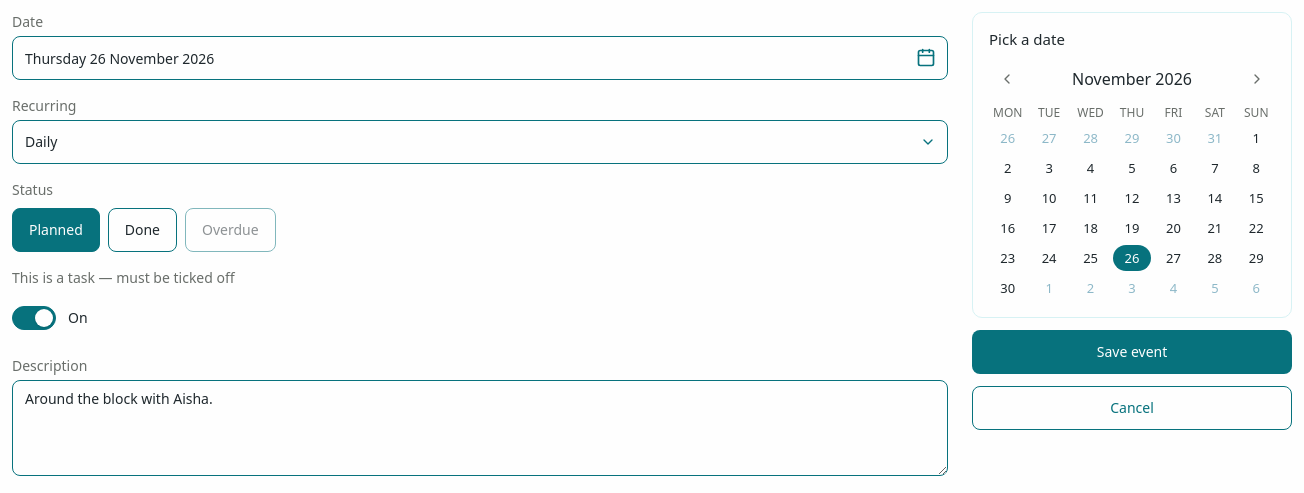
Test: [UI-05][AC-11] EventForm hides Status for a plain event › [UI-05][AC-11] the switch drives hideStatus, as the Add / Edit event screen will
Expected: the element named "Status" is shown, [12,208,276,252]
Step 1. Click the switch named "This is a task — must be ticked off" → [54, 318], box [12,296,96,340]
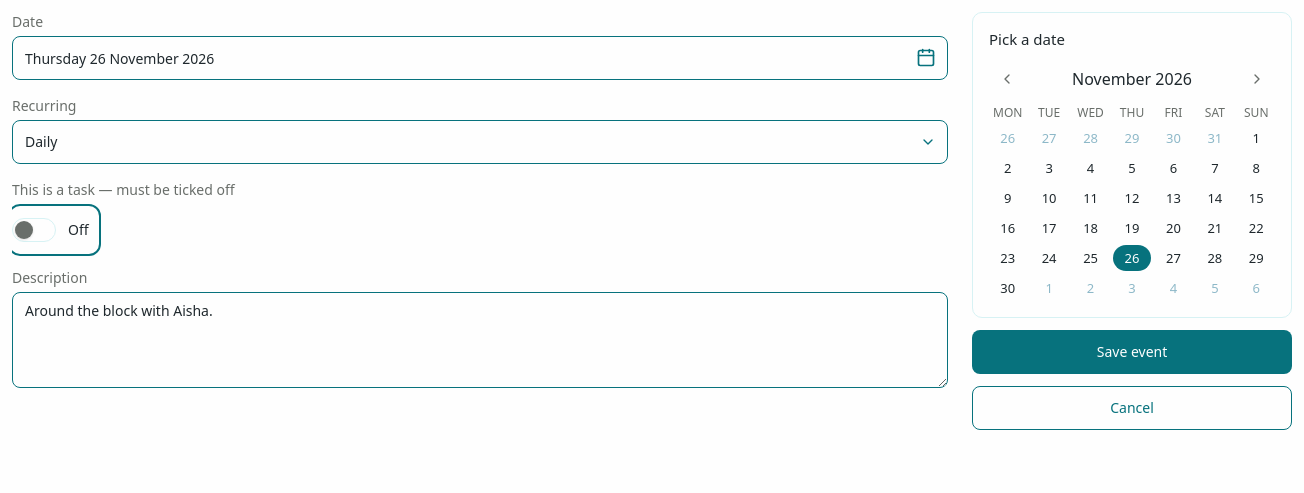
Expected: the text "Status" is gone
Step 2. Click the switch named "This is a task — must be ticked off" → [54, 230], box [12,208,97,252]
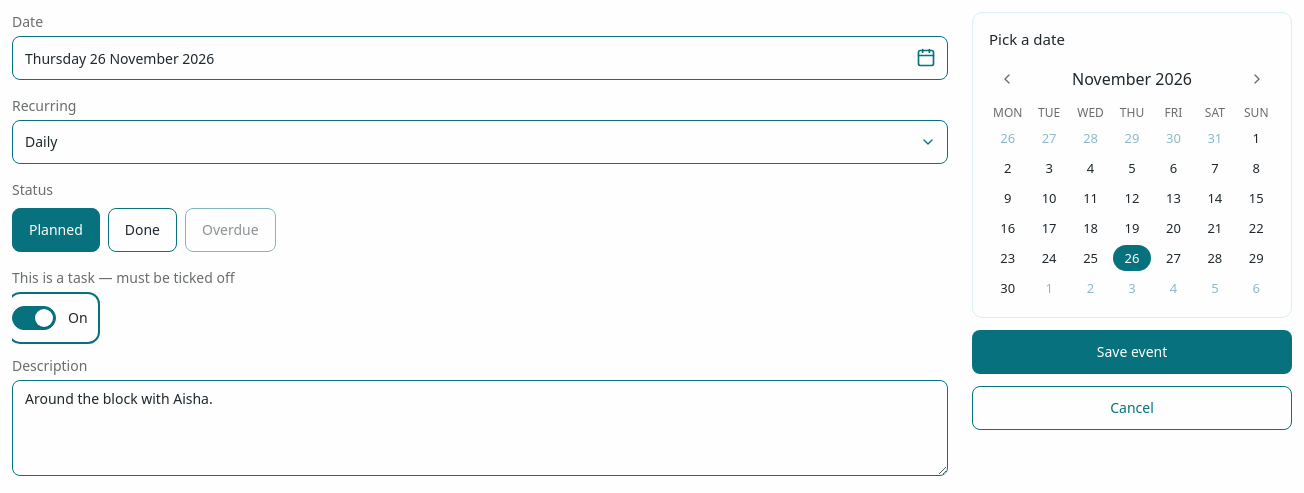
Expected: the element named "Status" is shown, [12,208,276,252]
